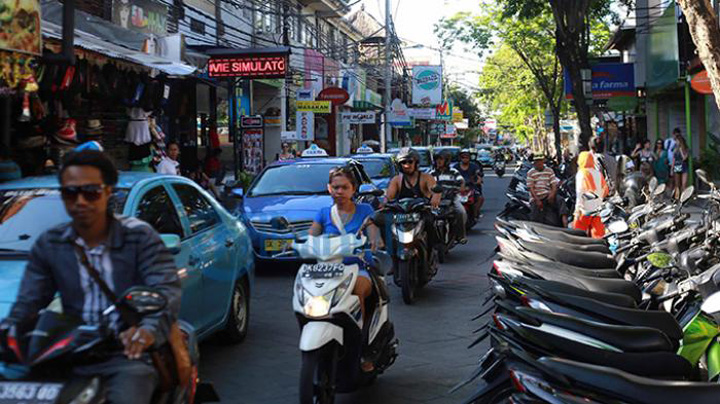plate: (304, 264, 345, 276)
